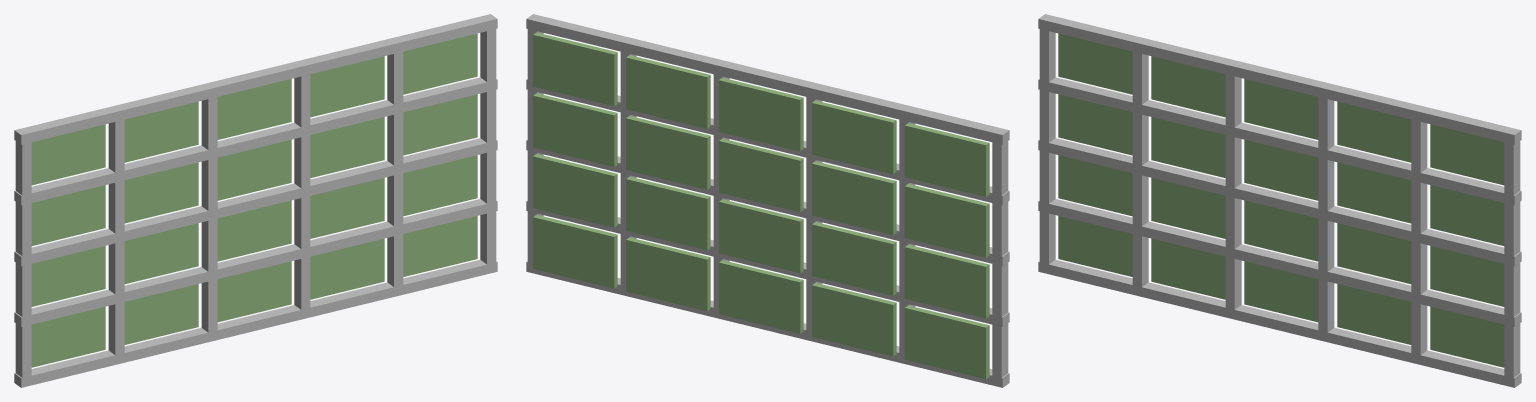
Rendered from slope_grid_frame_panel.glb.
3 renders of one model, left to right at view 1: azimuth 30°, elevation 25°; view 2: azimuth 150°, elevation 25°; view 3: azimuth 330°, elevation 25°, orthographic.
Visible parts, largest first — view 1: slope_grid_frame_panel; view 2: slope_grid_frame_panel; view 3: slope_grid_frame_panel.
Part boxes in pixels (<box>): slope_grid_frame_panel: <box>14,14,497,387</box>; slope_grid_frame_panel: <box>526,14,1009,387</box>; slope_grid_frame_panel: <box>1038,14,1521,387</box>.
Size of the model in its own units: 8.2 by 4.16 by 0.35.
